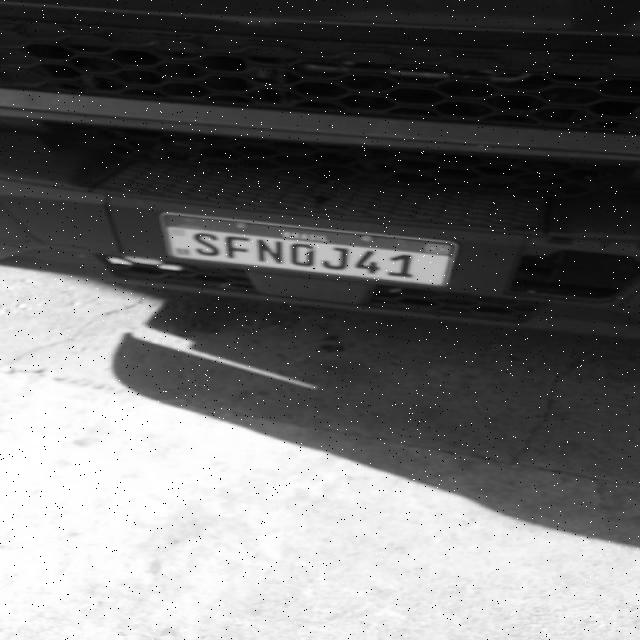placa_mercosul: (161, 214, 457, 286)
